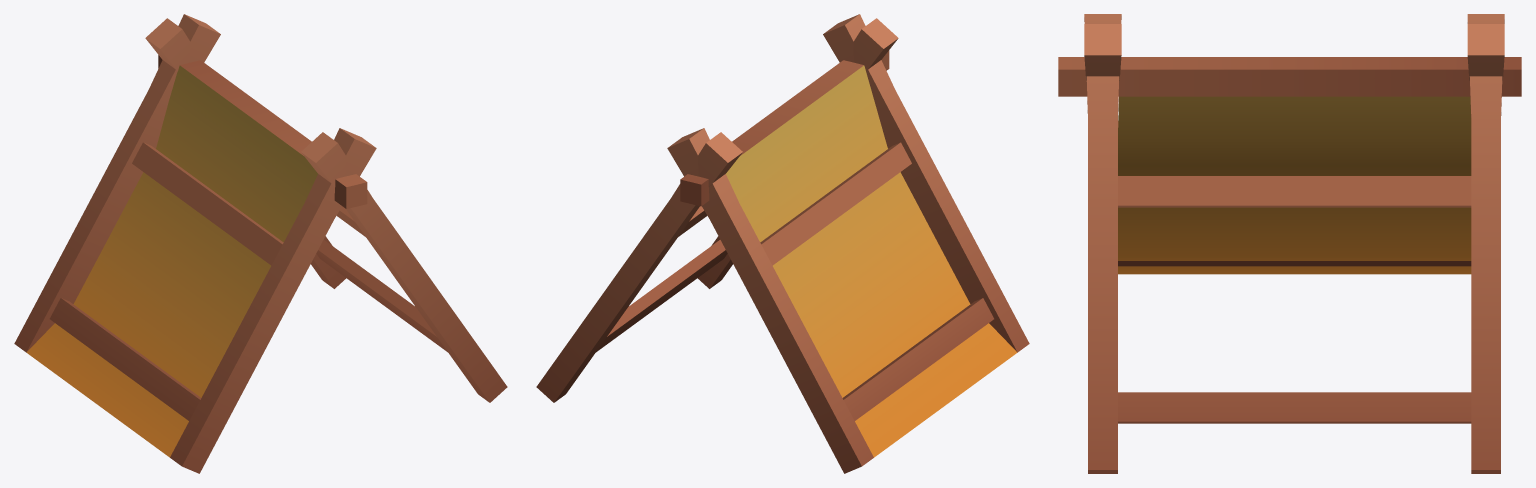
The model's file is emergency-shelter.glb.
3 renders of one model, left to right at view 1: azimuth 30°, elevation 25°; view 2: azimuth 150°, elevation 25°; view 3: azimuth 270°, elevation 25°, orthographic. The views are drawn at different scales.
Visible parts, largest first — view 1: m; view 2: m; view 3: m.
Part boxes in pixels (<box>): m: <box>14,14,507,473</box>; m: <box>536,14,1029,473</box>; m: <box>1058,14,1521,473</box>.
Bounding box in the file's own units: 0.6 × 0.5257 × 0.6003.
